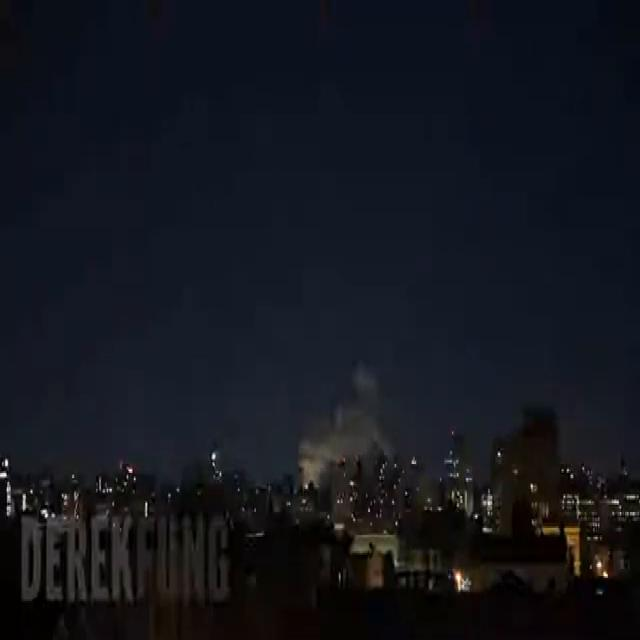smoke: (298, 364, 391, 480)
